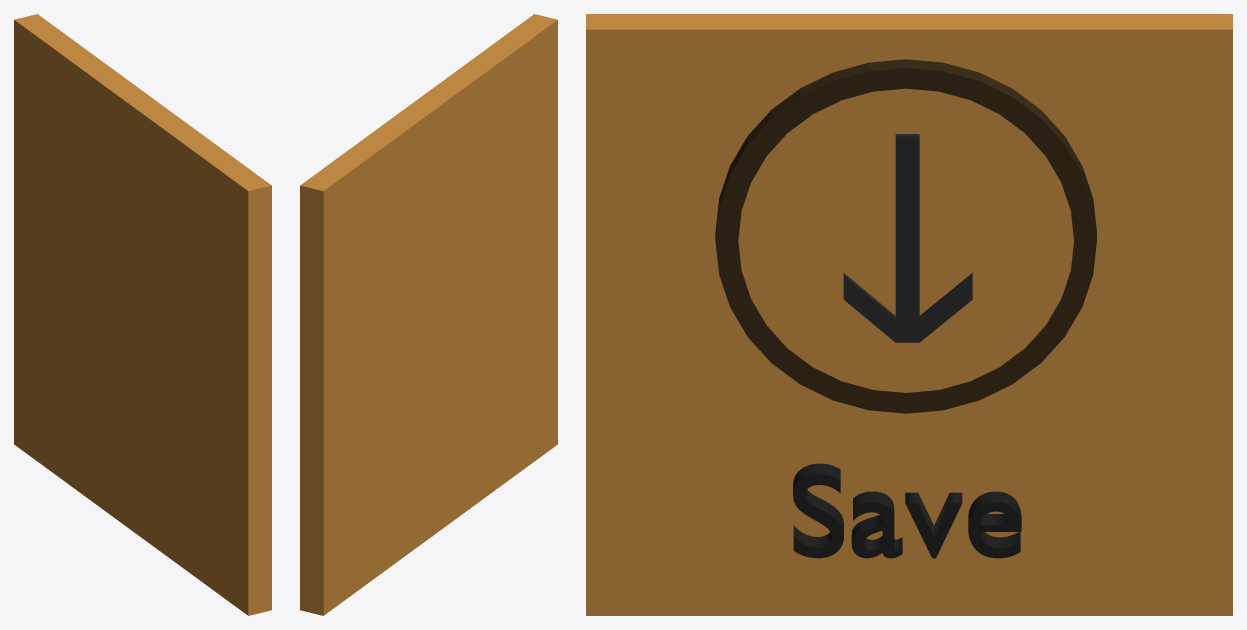
File: Savebutton.fbx
3 renders of one model, left to right at view 1: azimuth 30°, elevation 25°; view 2: azimuth 150°, elevation 25°; view 3: azimuth 270°, elevation 25°, orthographic. The views are drawn at different scales.
Visible parts, largest first — view 1: Setting Button.001; view 2: Setting Button.001; view 3: Setting Button.001, Cylinder, S.001, Cube.
Part boxes in pixels (<box>): Setting Button.001: <box>14,14,271,615</box>; Setting Button.001: <box>300,14,557,615</box>; Setting Button.001: <box>586,14,1232,615</box>; Cylinder: <box>715,59,1096,413</box>; S.001: <box>793,463,1021,558</box>; Cube: <box>843,134,972,342</box>.
Size of the model in its own units: 25.84 by 262 by 262.
